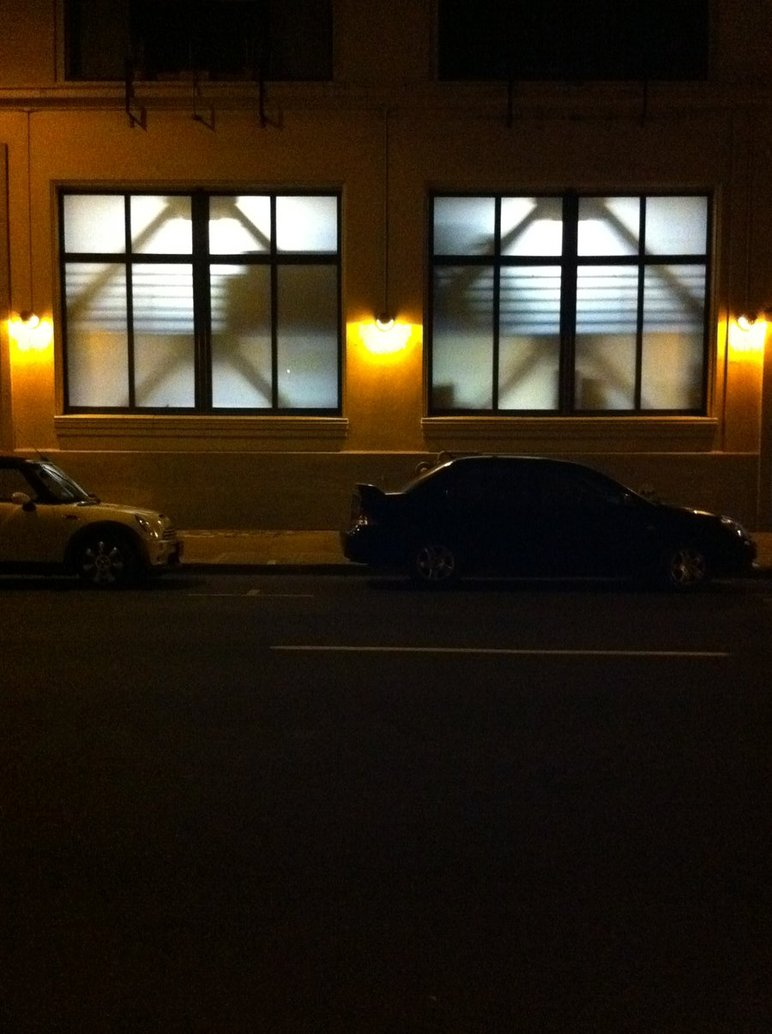car: (11, 443, 193, 594)
